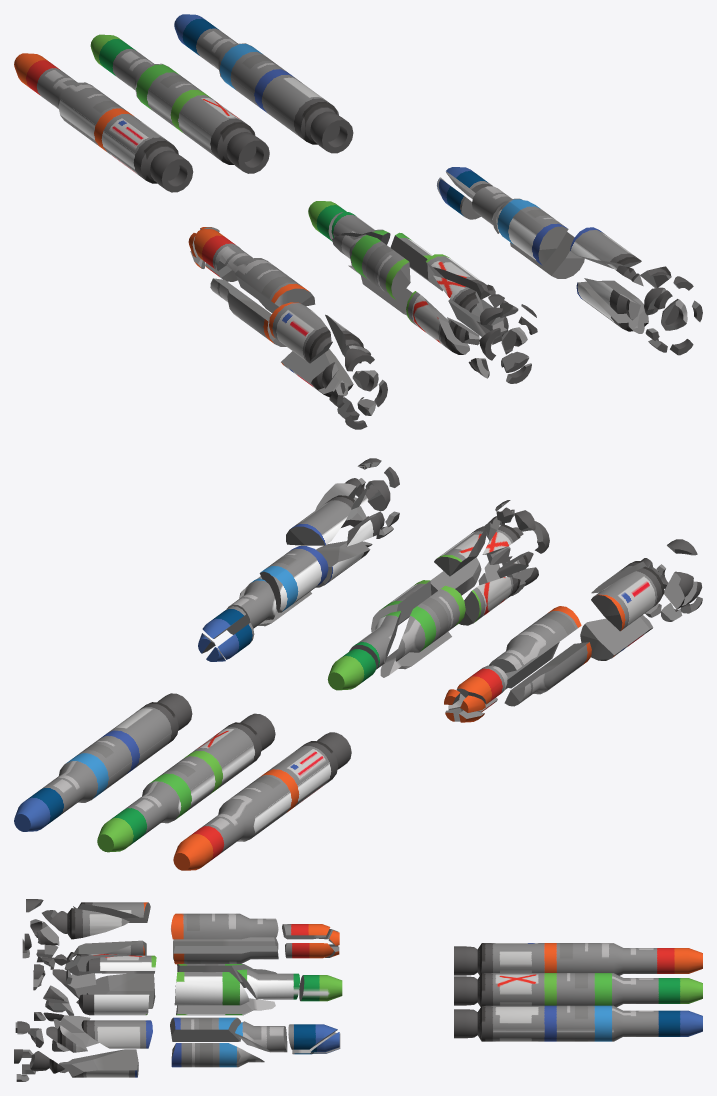
The model's file is rocket 2.fbx.
3 renders of one model, top to bottom at view 1: azimuth 30°, elevation 25°; view 2: azimuth 150°, elevation 25°; view 3: azimuth 270°, elevation 25°, orthographic. The views are drawn at different scales.
Parts seen in each view (by area): view 1: Cylinder.005_cell.056, Cylinder.006_cell.005, Cylinder_cell.011, Cylinder.009, Cylinder.007, Cylinder.008; view 2: Cylinder_cell.011, Cylinder.005_cell.056, Cylinder.006_cell.005, Cylinder.007, Cylinder.008, Cylinder.009; view 3: Cylinder.005_cell.056, Cylinder.006_cell.005, Cylinder_cell.011, Cylinder.009, Cylinder.008, Cylinder.007.
Boxes of the visible parts, bbox=[...] form: Cylinder.005_cell.056: bbox=[308, 201, 537, 383]; Cylinder.006_cell.005: bbox=[437, 167, 702, 355]; Cylinder_cell.011: bbox=[188, 227, 387, 429]; Cylinder.009: bbox=[174, 14, 353, 153]; Cylinder.007: bbox=[14, 53, 193, 192]; Cylinder.008: bbox=[90, 34, 269, 173]; Cylinder_cell.011: bbox=[444, 539, 702, 722]; Cylinder.005_cell.056: bbox=[327, 500, 549, 690]; Cylinder.006_cell.005: bbox=[198, 458, 399, 661]; Cylinder.007: bbox=[173, 732, 351, 870]; Cylinder.008: bbox=[97, 713, 275, 852]; Cylinder.009: bbox=[14, 693, 192, 831]; Cylinder.005_cell.056: bbox=[33, 952, 342, 1021]; Cylinder.006_cell.005: bbox=[14, 1015, 340, 1081]; Cylinder_cell.011: bbox=[22, 899, 339, 964]; Cylinder.009: bbox=[454, 1005, 702, 1041]; Cylinder.008: bbox=[454, 973, 702, 1007]; Cylinder.007: bbox=[454, 943, 702, 975].
Bounding box in the file's own units: 1843 × 410 × 3809.
Materials: 1 (1 with a texture image).
